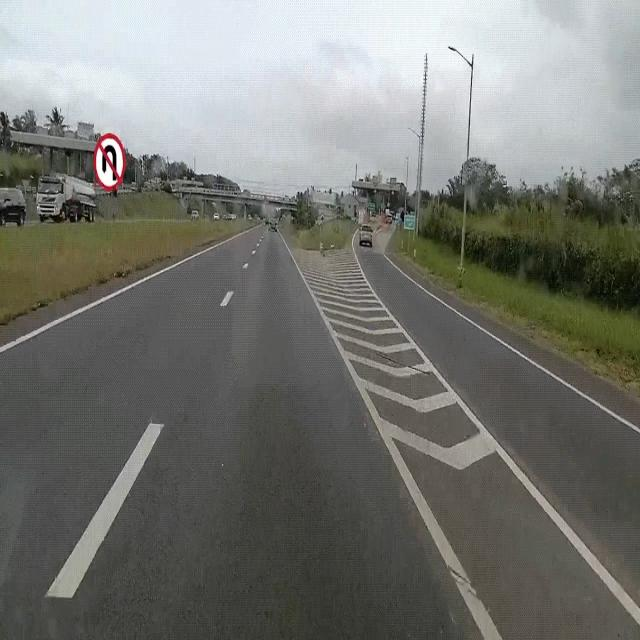Demi-Tour-Interdit: (90, 126, 130, 197)
